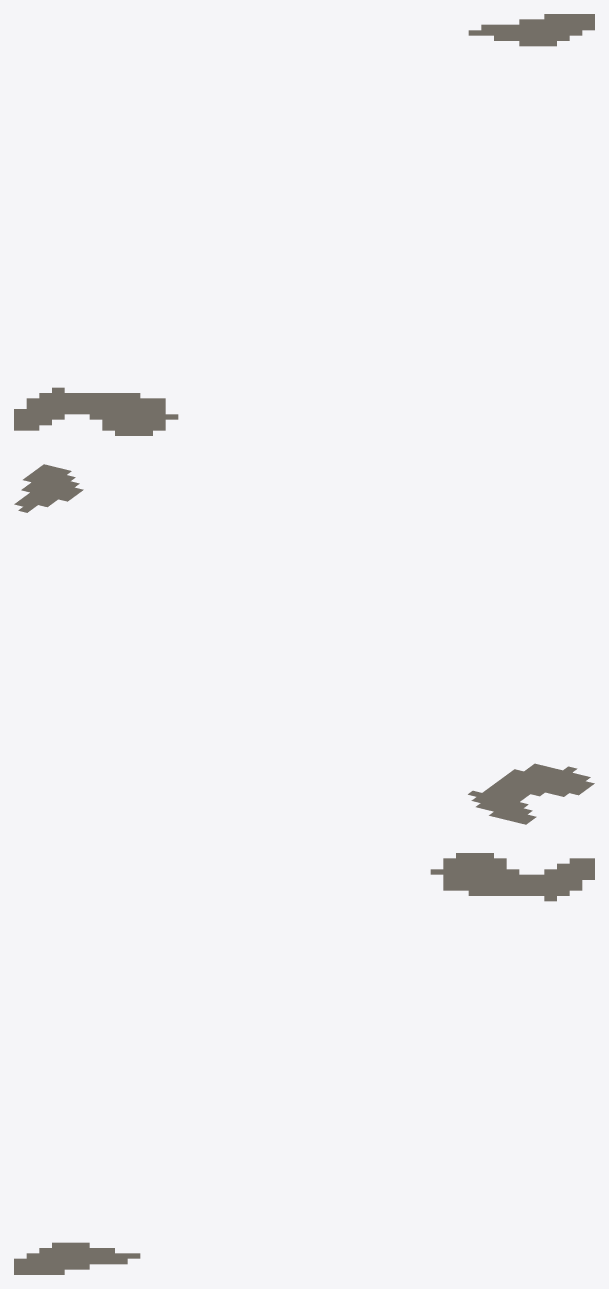
The model's file is Isl-atoll4-RocksArea.fbx.
The picture shows the model from 3 angles, top to bottom: view 1: azimuth 90°, elevation 25°; view 2: azimuth 150°, elevation 25°; view 3: azimuth 270°, elevation 25°; orthographic projection. The views are drawn at different scales.
Parts seen in each view (by area): view 1: Isl-atoll4-RocksArea; view 2: Isl-atoll4-RocksArea; view 3: Isl-atoll4-RocksArea.
Boxes of the visible parts, bbox=[...] form: Isl-atoll4-RocksArea: bbox=[14, 14, 594, 435]; Isl-atoll4-RocksArea: bbox=[14, 464, 594, 824]; Isl-atoll4-RocksArea: bbox=[14, 853, 594, 1274].
Bounding box in the file's own units: 79 × 0 × 46.
